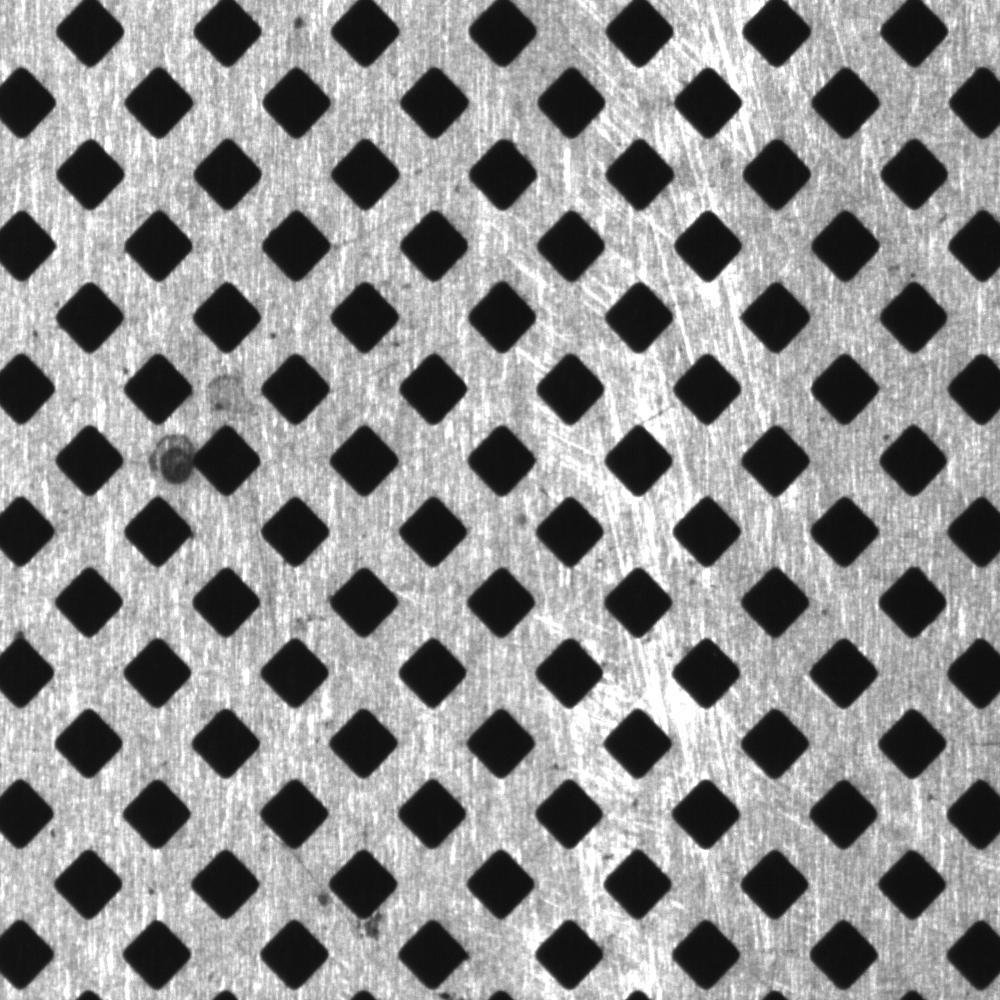Discolor: (139, 429, 205, 490), (201, 364, 267, 419)
Etching: (278, 4, 325, 42), (349, 908, 391, 943), (310, 886, 337, 918)
